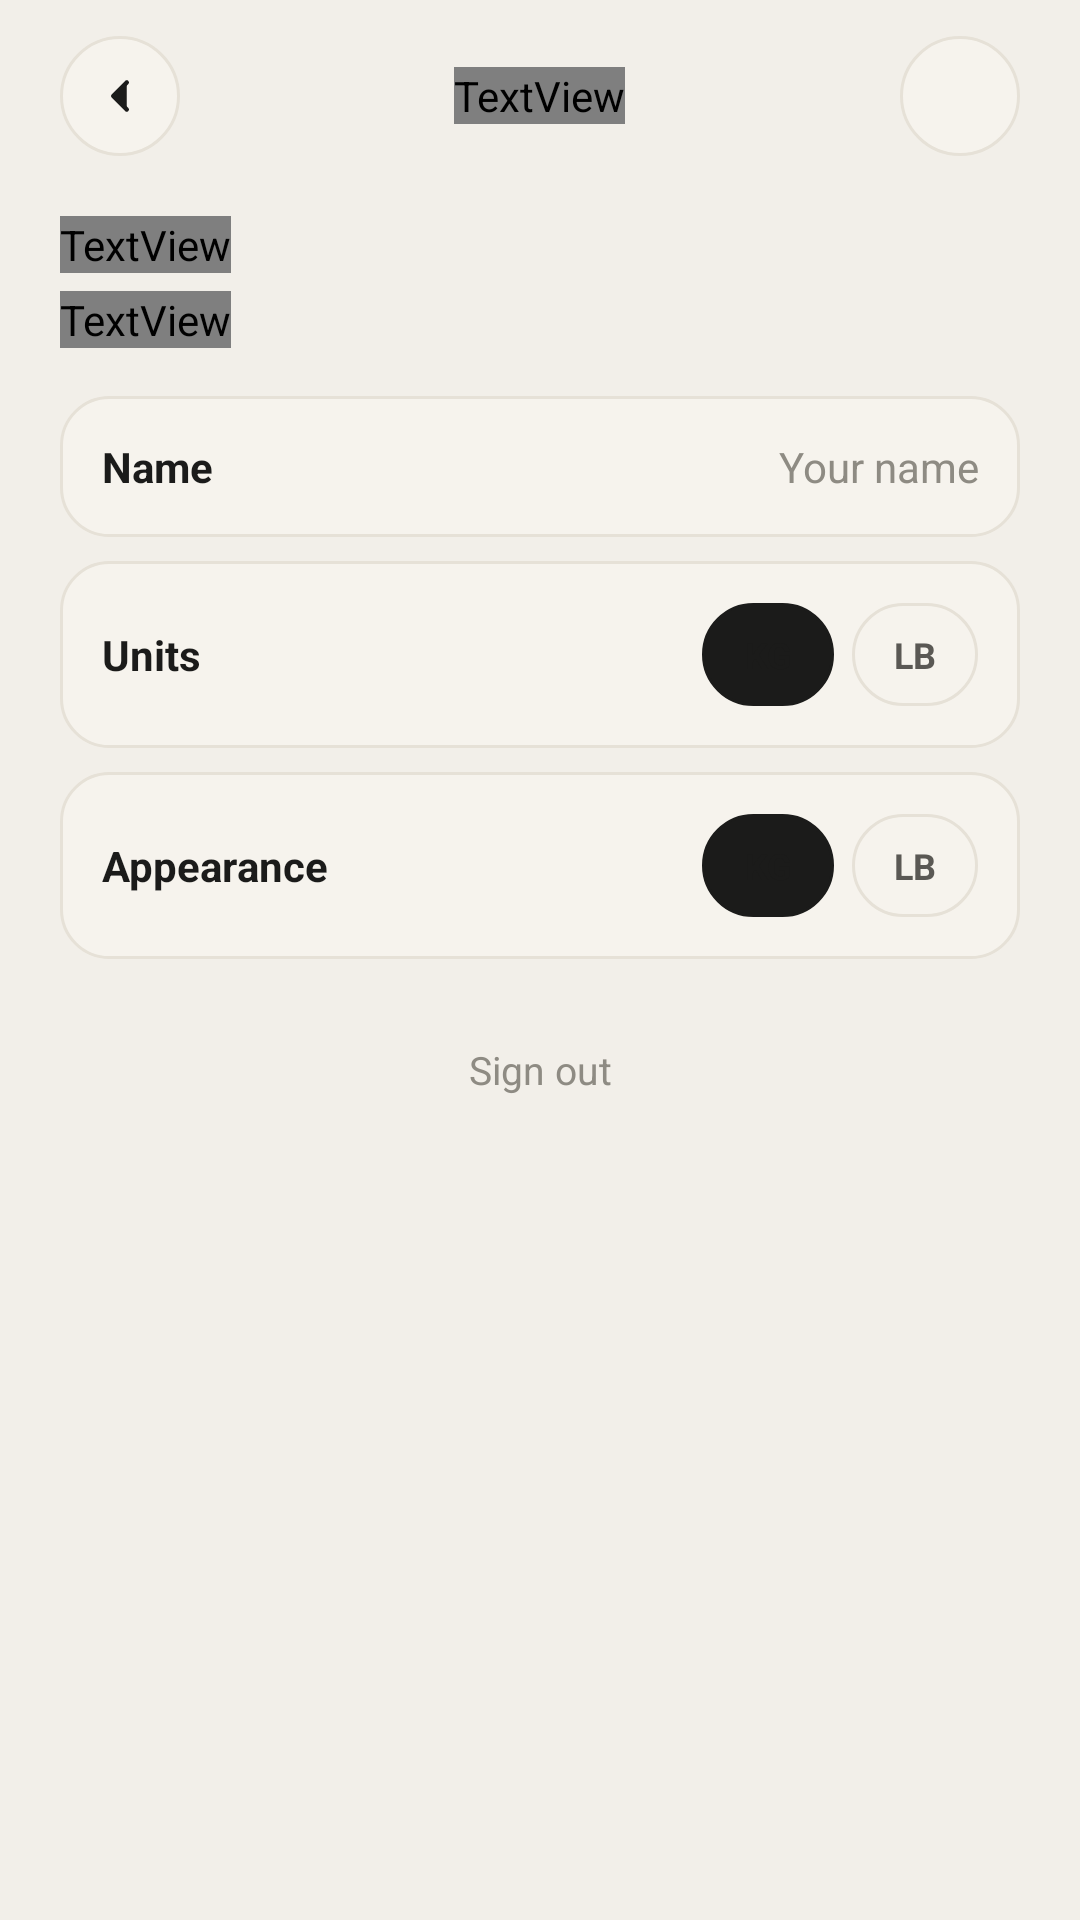

Icons on this 1080px x 1920px Android screen, each with the point to tap as point (x, y):
Back: point (120, 96)
